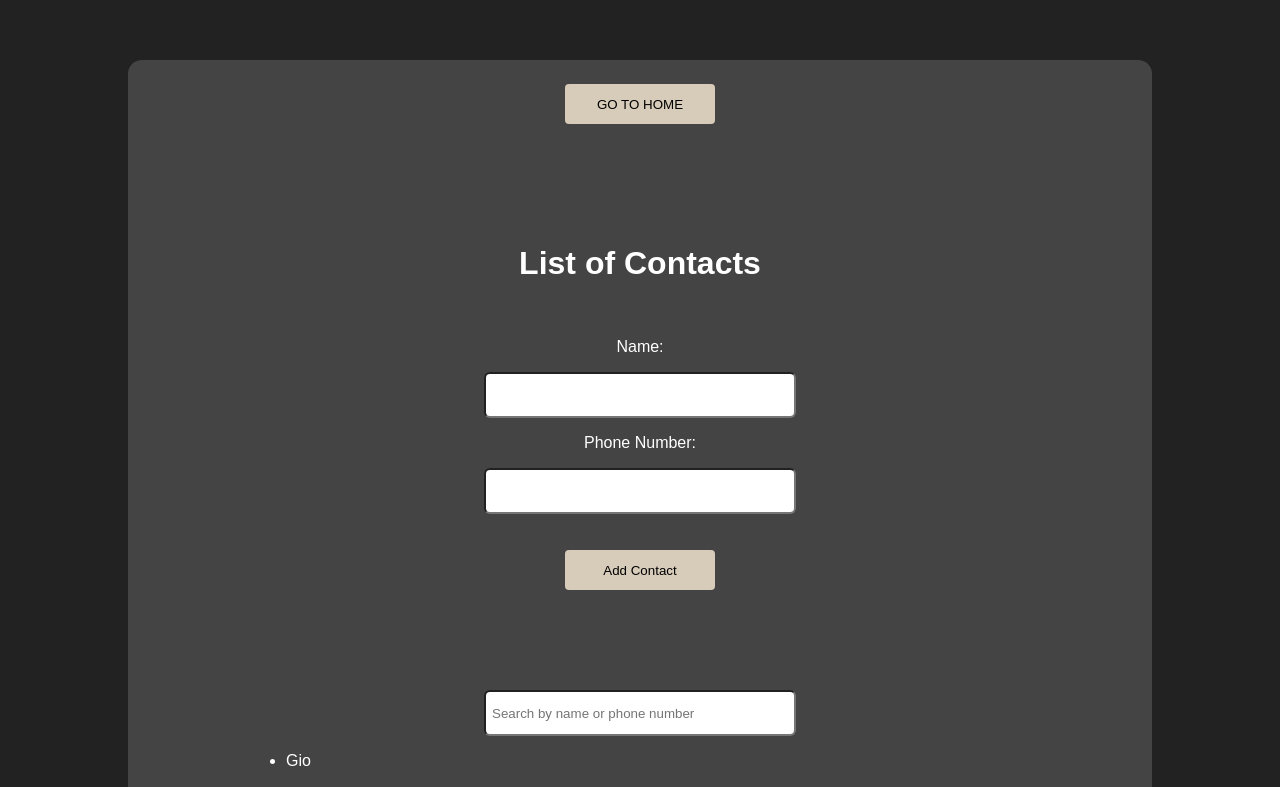
Test: ContactPage › should display new contact to the list of contacts after adding new contact
Expected: the text "Gio" is shown, [286, 752, 311, 769]
Type "React" into the field labelled "Name:" at (640, 395), box [484, 372, 796, 418]
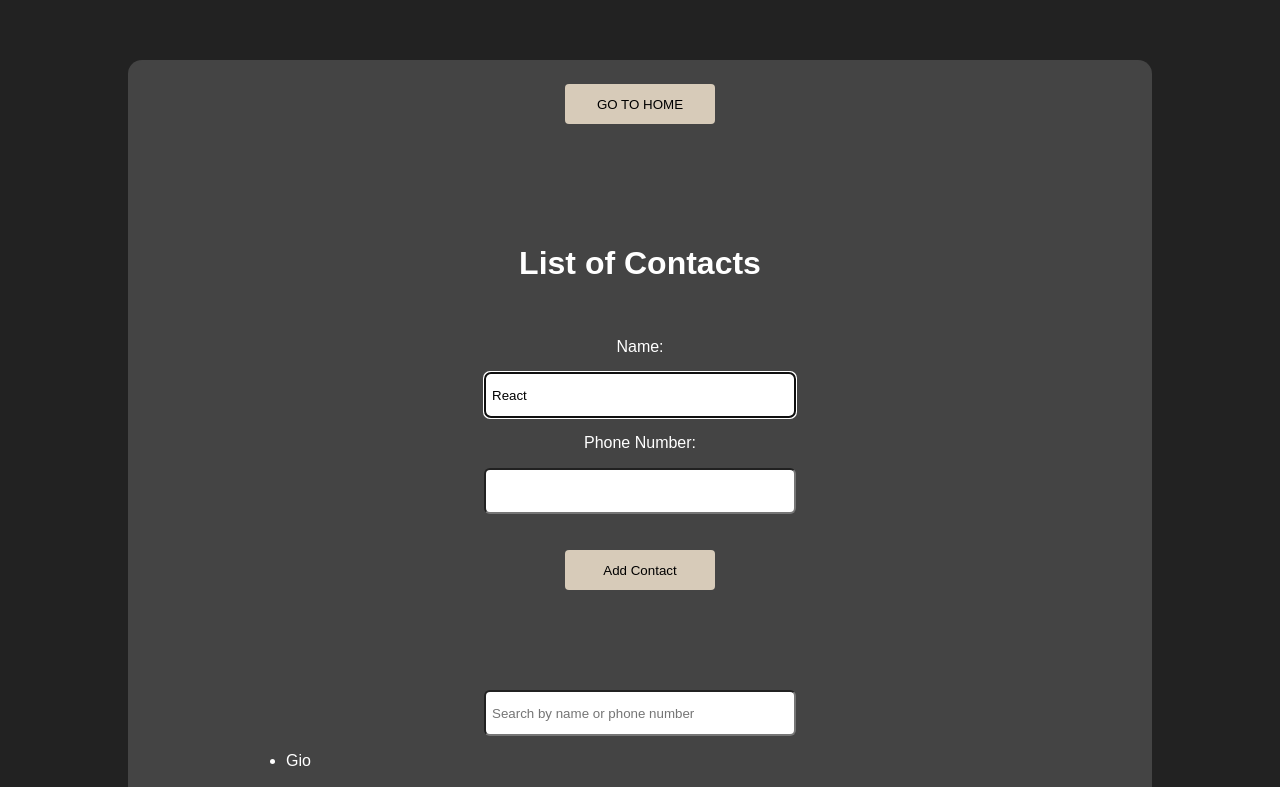
Type "08123456789" into the field labelled "Phone Number:" at (640, 491), box [484, 468, 796, 514]
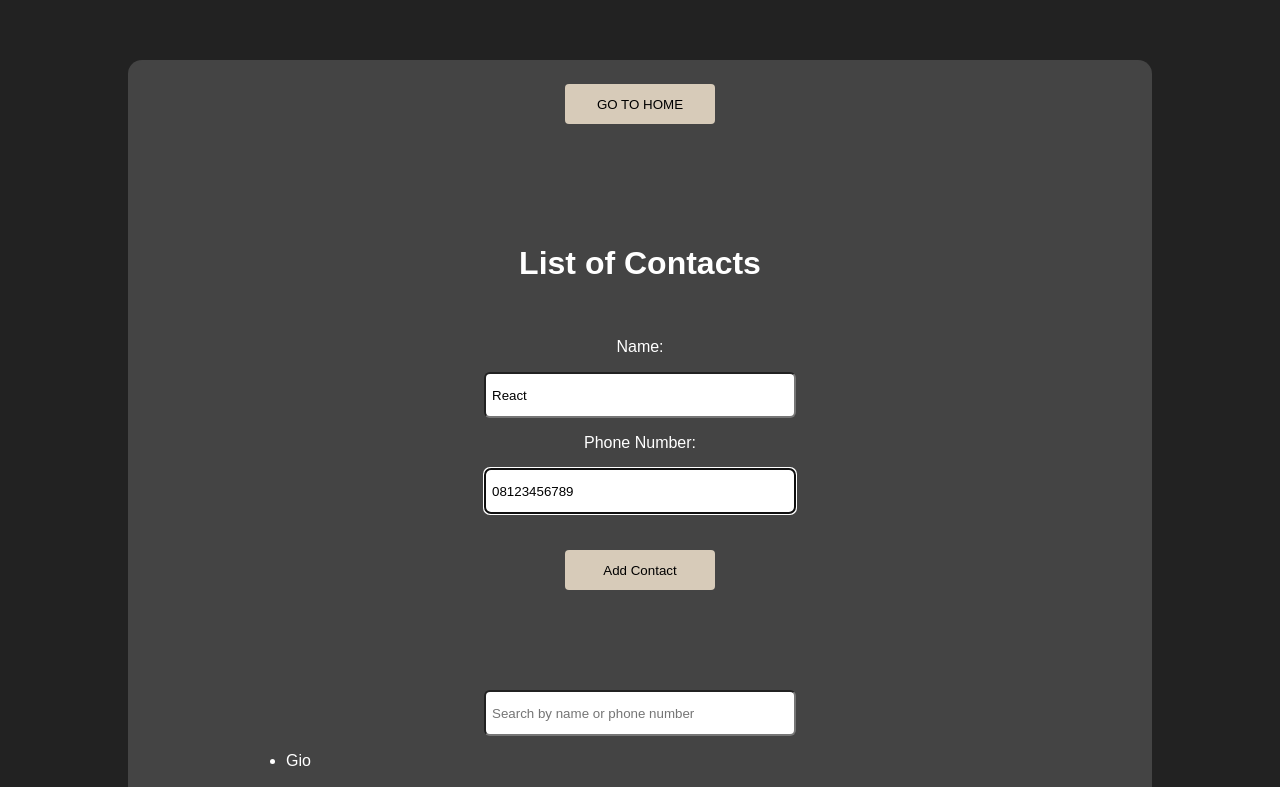
Click the button "Add Contact" at (640, 570), box [565, 550, 715, 590]
(page scrolled)
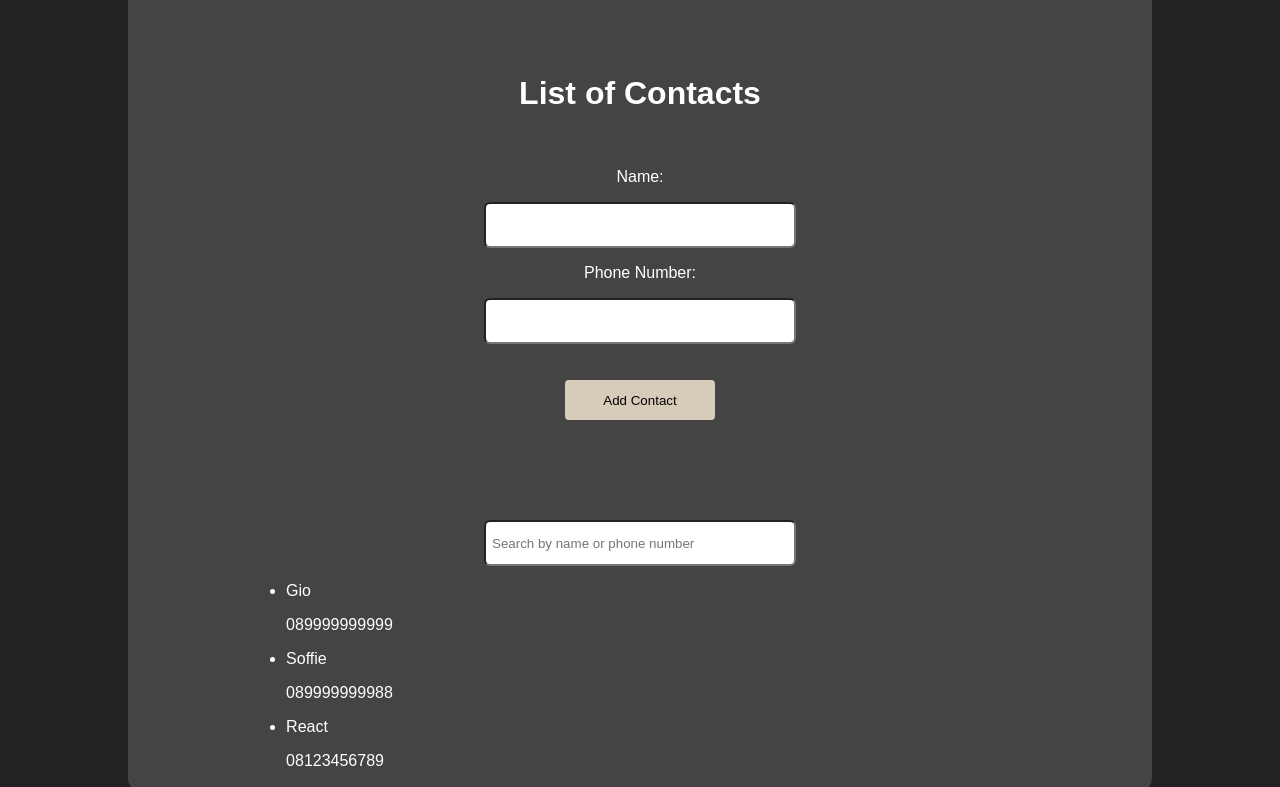
Result: the text "React" is shown at [286, 718, 328, 735]
Result: the text "08123456789" is shown at [286, 752, 384, 769]
